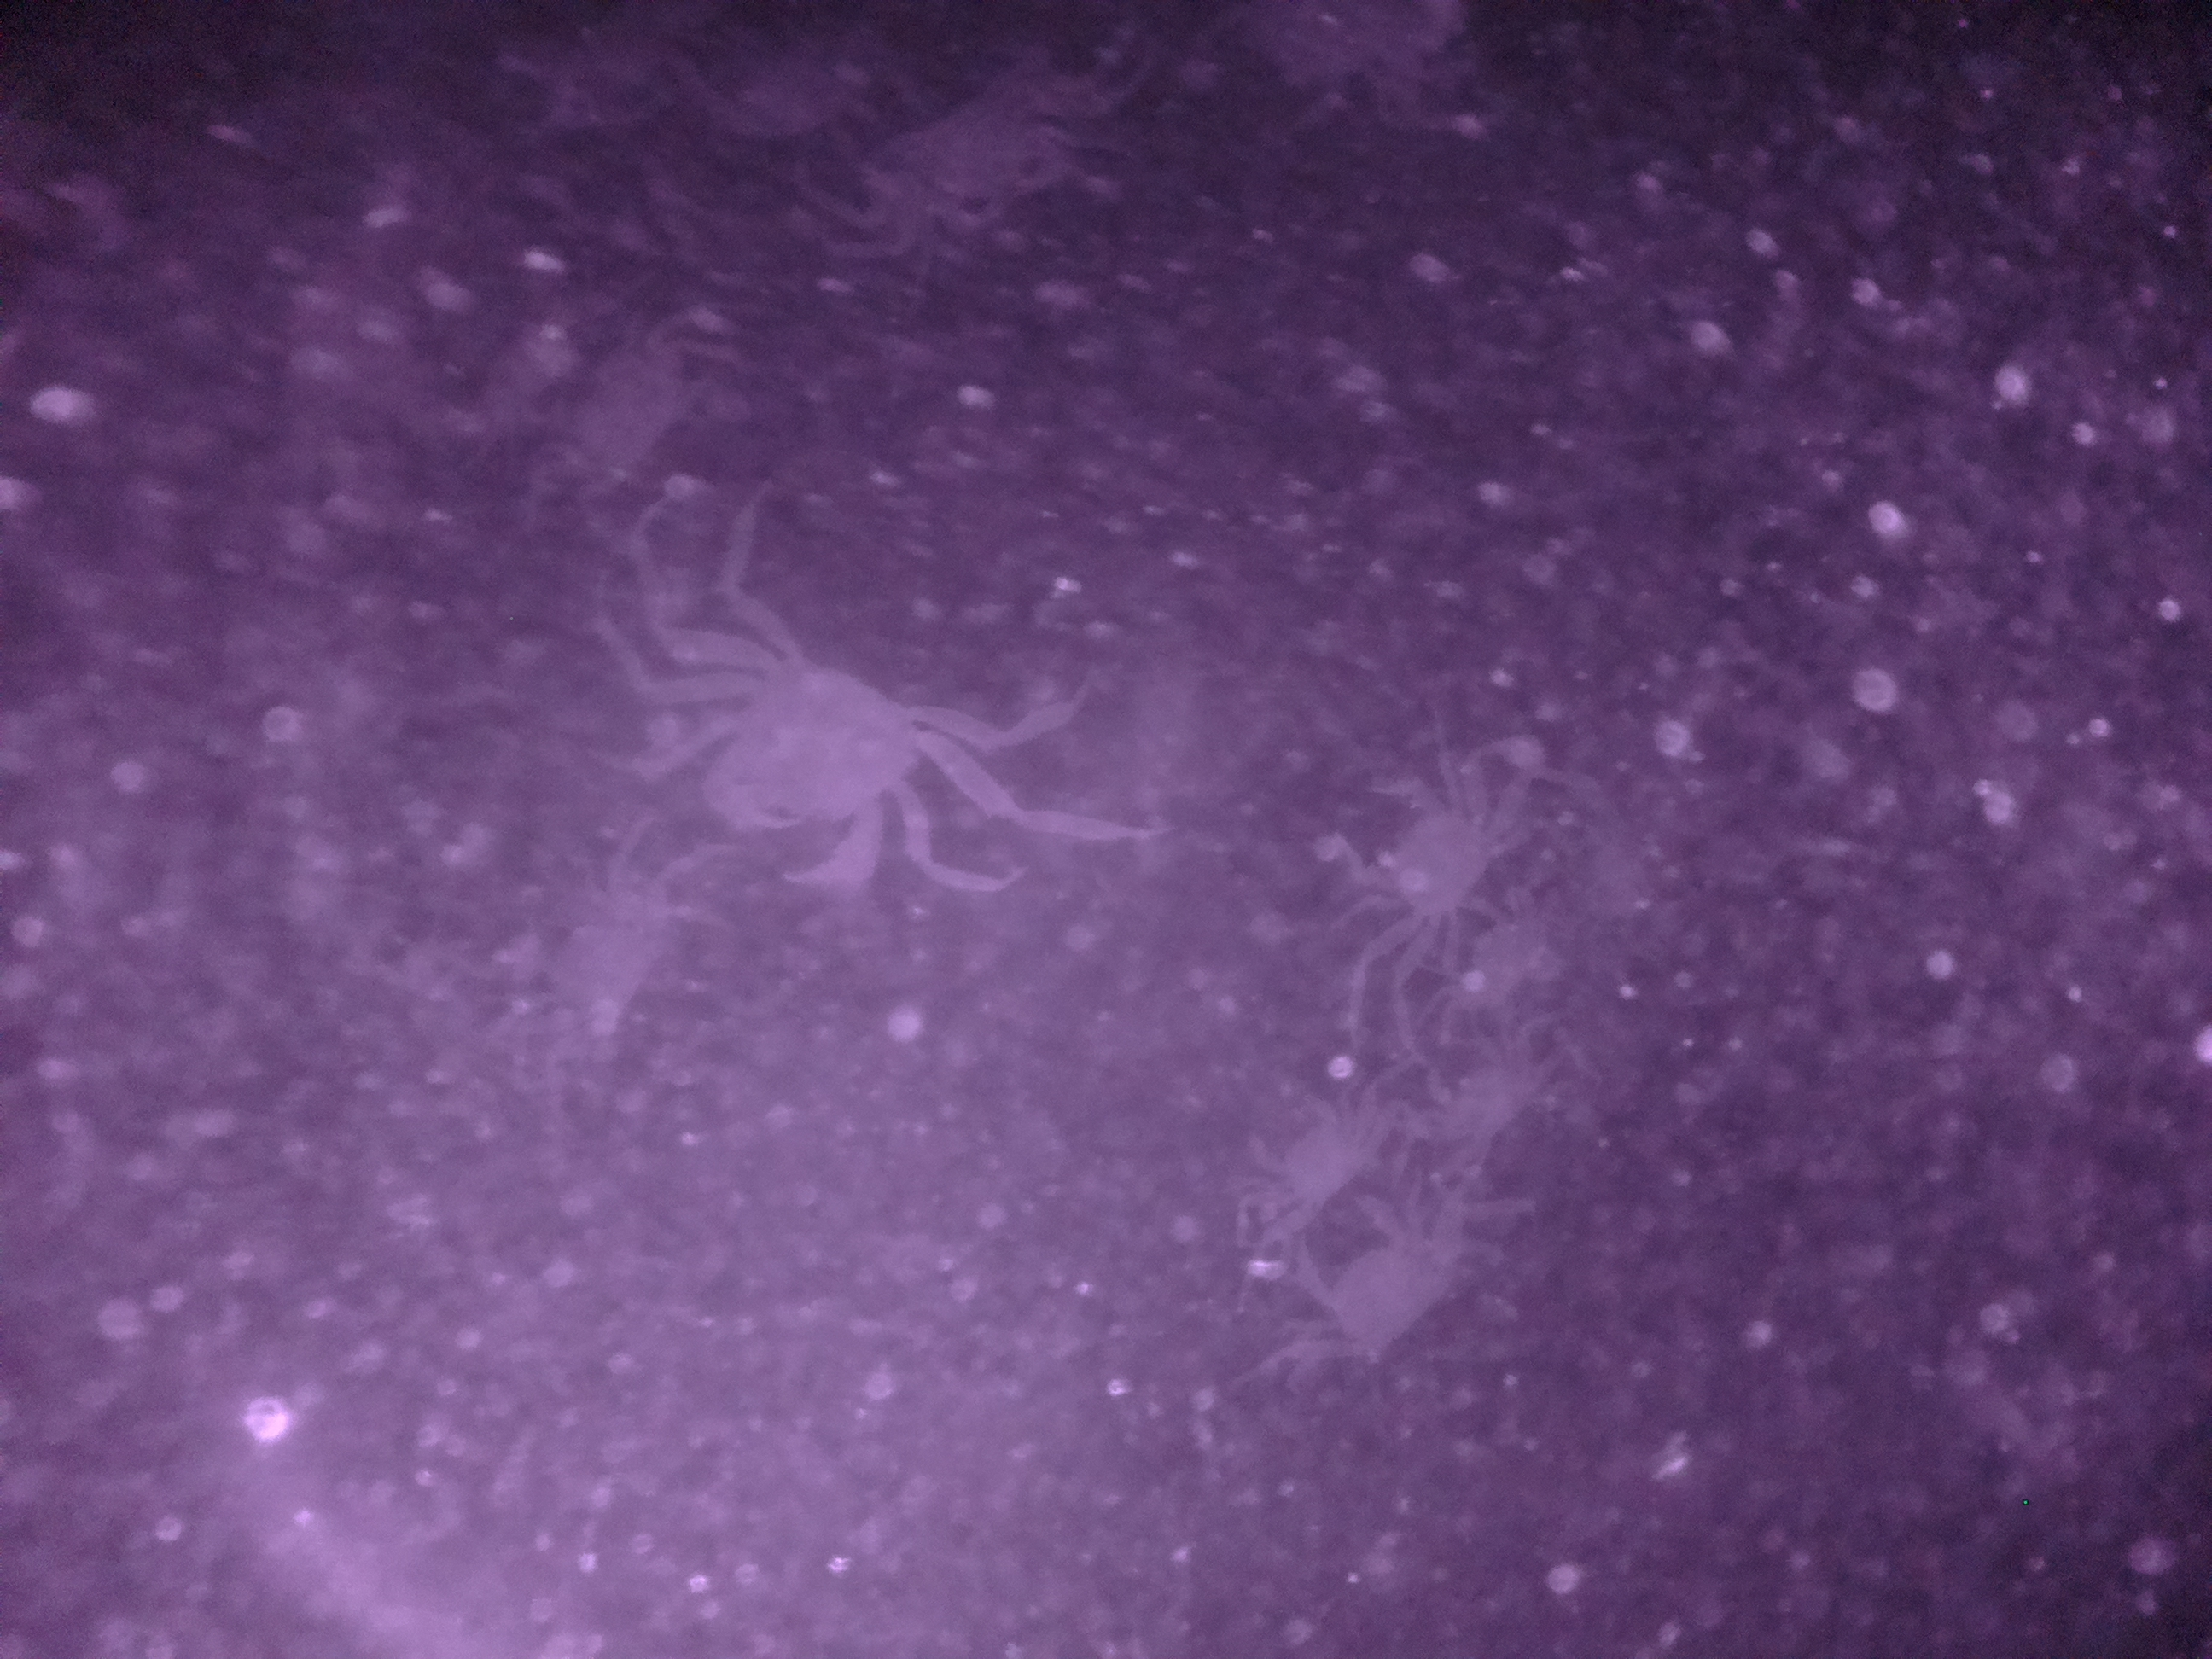Crab: (629, 633, 965, 924), (841, 51, 1108, 246), (1275, 1166, 1493, 1380), (1317, 737, 1536, 950), (1231, 1046, 1381, 1249)
